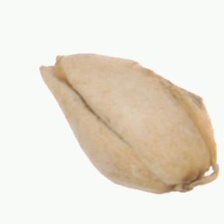L1: (165, 164, 222, 194), (37, 53, 73, 84)
L2: (38, 53, 220, 196)
